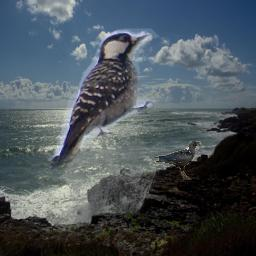Crow: (155, 141, 202, 180)
Woodpecker: (42, 24, 160, 177)
